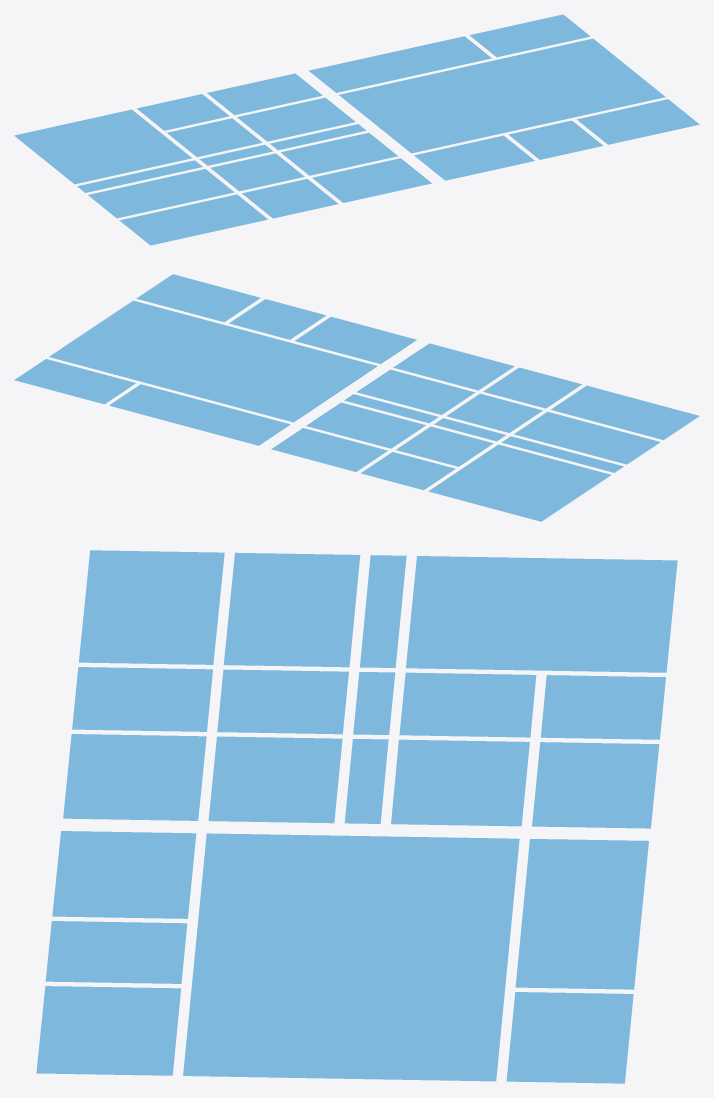
The model's file is layout_obj_new_0.obj.
3 renders of one model, top to bottom at view 1: azimuth 30°, elevation 25°; view 2: azimuth 150°, elevation 25°; view 3: azimuth 270°, elevation 25°, orthographic. The views are drawn at different scales.
Parts seen in each view (by area): view 1: Shape_19, Shape_3, Shape_14, Shape_1, Shape_2, Shape_18, Shape_15, Shape_11, Shape_13, Shape_12, Shape_17, Shape_10 (+8 smaller); view 2: Shape_19, Shape_3, Shape_14, Shape_1, Shape_2, Shape_18, Shape_15, Shape_11, Shape_13, Shape_12, Shape_17, Shape_10 (+8 smaller); view 3: Shape_19, Shape_3, Shape_14, Shape_1, Shape_2, Shape_18, Shape_15, Shape_11, Shape_13, Shape_12, Shape_17, Shape_10 (+8 smaller).
Part boxes in pixels (left/top/right/bottom): Shape_19: left=339, top=38, right=665, bottom=153; Shape_3: left=14, top=109, right=191, bottom=184; Shape_14: left=309, top=36, right=491, bottom=92; Shape_1: left=119, top=194, right=267, bottom=245; Shape_2: left=88, top=169, right=234, bottom=218; Shape_18: left=577, top=99, right=699, bottom=144; Shape_15: left=414, top=135, right=534, bottom=180; Shape_11: left=312, top=158, right=431, bottom=202; Shape_13: left=237, top=97, right=355, bottom=141; Shape_12: left=281, top=132, right=397, bottom=175; Shape_17: left=469, top=14, right=590, bottom=57; Shape_10: left=207, top=73, right=322, bottom=115; Shape_19: left=49, top=300, right=377, bottom=422; Shape_3: left=428, top=444, right=611, bottom=521; Shape_14: left=109, top=384, right=290, bottom=445; Shape_1: left=550, top=385, right=699, bottom=439; Shape_2: left=514, top=411, right=660, bottom=464; Shape_18: left=136, top=274, right=260, bottom=322; Shape_15: left=295, top=316, right=416, bottom=364; Shape_11: left=393, top=343, right=514, bottom=390; Shape_13: left=306, top=402, right=425, bottom=448; Shape_12: left=356, top=369, right=475, bottom=414; Shape_17: left=14, top=359, right=135, bottom=404; Shape_10: left=271, top=428, right=387, bottom=471; Shape_19: left=183, top=833, right=519, bottom=1081; Shape_3: left=406, top=556, right=677, bottom=672; Shape_14: left=515, top=839, right=648, bottom=989; Shape_1: left=79, top=550, right=224, bottom=664; Shape_2: left=223, top=552, right=360, bottom=667; Shape_18: left=36, top=986, right=181, bottom=1075; Shape_15: left=52, top=831, right=196, bottom=918; Shape_11: left=63, top=734, right=206, bottom=820; Shape_13: left=391, top=739, right=529, bottom=826; Shape_12: left=208, top=736, right=342, bottom=823; Shape_17: left=506, top=992, right=633, bottom=1083; Shape_10: left=532, top=742, right=659, bottom=828.
Size of the model in its own units: 1226 by 0 by 623.
